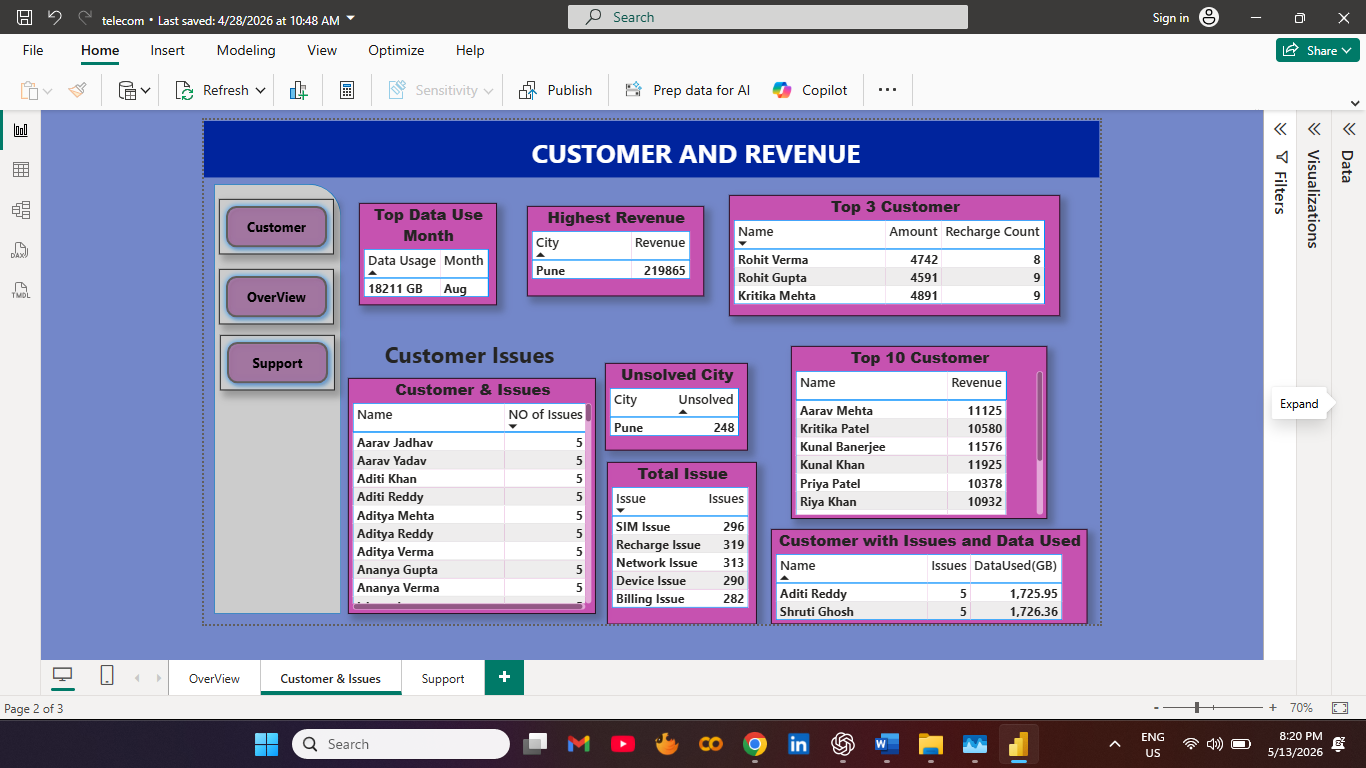

The dashboard page shown, as its layout file describes it:
{"tool":"powerbi","page":{"name":"Customer & Issues","canvas":[1280,720],"ordinal":1},"visuals":[{"type":"shape","box":[14,91.5,181.5,614.2],"z":0},{"type":"shape","box":[0,1.6,1279.5,80.6],"z":1000},{"type":"actionButton","title":"Over","box":[21.7,212.5,164.4,79.1],"z":2000},{"type":"actionButton","title":"Over","box":[21.7,113.2,164.4,79.1],"z":3000},{"type":"actionButton","title":"Over","box":[23.3,307.1,164.4,79.1],"z":4000},{"type":"textbox","box":[372.2,15.5,649.8,66.7],"z":5000},{"type":"tableEx","title":"Highest Revenue","fields":{"Values":["CustomerMaster.City","Cust_Measure.Total Revenue"]},"box":[461.5,122.7,253.1,128.5],"z":6000},{"type":"tableEx","title":"Top 3 Customer ","fields":{"Values":["CustomerMaster.FullName","Sum(RechargeHistory.Amount)","CountNonNull(RechargeHistory.Amount)"]},"box":[749.7,107.1,473.2,173.3],"z":7000},{"type":"tableEx","title":"Top Data Use Month","fields":{"Values":["UsageData.total data usage","UsageData.Month"]},"box":[222,118.8,196.7,146],"z":8000},{"type":"tableEx","title":"Customer & Issues","fields":{"Values":["CustomerMaster.FullName","SupportTickets.IssueType"]},"box":[206.4,368,354.4,336.9],"z":9000},{"type":"textbox","box":[196,307.5,376,60.5],"z":10000},{"type":"tableEx","title":"Customer with Issues and Data Used ","fields":{"Values":["CustomerMaster.FullName","SupportTickets.IssueType","Sum(UsageData.DataUsedGB)"]},"box":[810.1,584.2,451.8,136.3],"z":11000},{"type":"tableEx","title":"Unsolved City ","fields":{"Values":["CustomerMaster.City","SupportTickets.unsolved"]},"box":[572.5,346.6,204.5,124.6],"z":12000},{"type":"tableEx","title":"Total Issue","fields":{"Values":["SupportTickets.IssueType","CountNonNull(SupportTickets.IssueType)"]},"box":[576.4,488.8,214.2,231.7],"z":13000},{"type":"tableEx","title":"Top 10 Customer ","fields":{"Values":["CustomerMaster.FullName","Cust_Measure.Total Revenue"]},"box":[839.3,323.2,366.1,247.3],"z":14000}]}

Visuals, with their boxes on the page's 1280x720 design canvas (x1, y1, x2, y2). These are canvas units, not pixel positions in the 1366x768 screenshot, which may show the page scaled, cropped or inside an application window:
shape: 14 92 196 706
shape: 0 2 1280 82
"Over" actionButton: 22 212 186 292
"Over" actionButton: 22 113 186 192
"Over" actionButton: 23 307 188 386
textbox: 372 16 1022 82
"Highest Revenue" tableEx: 462 123 715 251
"Top 3 Customer " tableEx: 750 107 1223 280
"Top Data Use Month" tableEx: 222 119 419 265
"Customer & Issues" tableEx: 206 368 561 705
textbox: 196 308 572 368
"Customer with Issues and Data Used " tableEx: 810 584 1262 720
"Unsolved City " tableEx: 572 347 777 471
"Total Issue" tableEx: 576 489 791 720
"Top 10 Customer " tableEx: 839 323 1205 570
